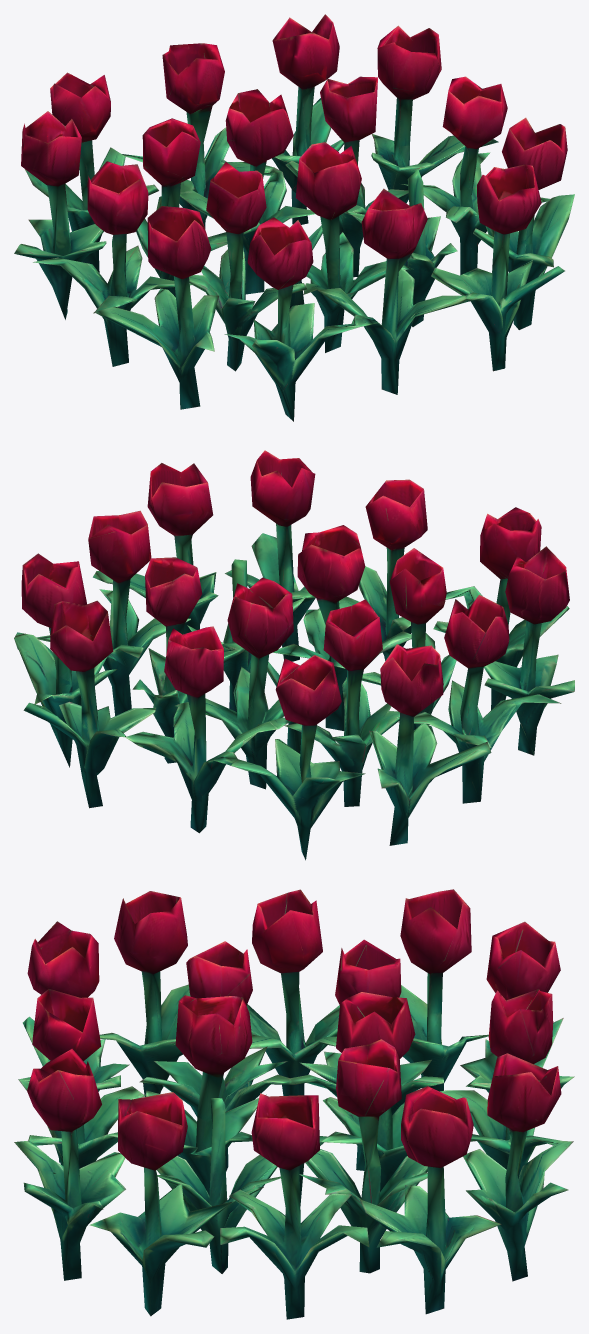
3 renders of one model, top to bottom at view 1: azimuth 30°, elevation 25°; view 2: azimuth 150°, elevation 25°; view 3: azimuth 270°, elevation 25°, orthographic. The views are drawn at different scales.
Visible parts, largest first — view 1: Mesh_0; view 2: Mesh_0; view 3: Mesh_0.
Part boxes in pixels (x1,y1,x2,y2): Mesh_0: (14, 14, 574, 421); Mesh_0: (14, 450, 574, 860); Mesh_0: (14, 889, 574, 1319).
Bounding box in the file's own units: 1.91 × 0.7585 × 1.7.
Materials: 1 (1 with a texture image).
